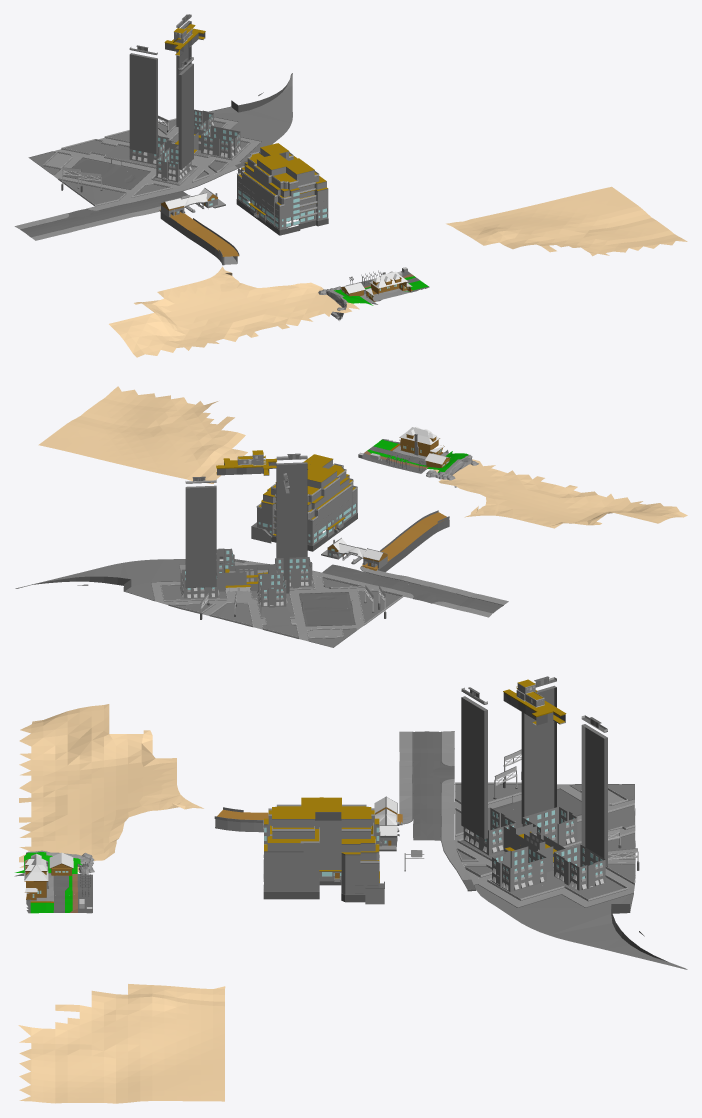
Rendered from brook_s2_2.FBX.
3 renders of one model, top to bottom at view 1: azimuth 30°, elevation 25°; view 2: azimuth 150°, elevation 25°; view 3: azimuth 270°, elevation 25°, orthographic. The views are drawn at different scales.
Visible parts, largest first — view 1: unnamed, null; view 2: unnamed, null; view 3: unnamed, null.
Part boxes in pixels (x1,y1,x2,y2): unnamed: (14,14,687,357); null: (29,14,209,186); unnamed: (15,386,687,647); null: (165,450,371,647); unnamed: (14,686,687,1103); null: (490,676,639,886).
Bounding box in the file's own units: 370 × 99.87 × 292.
